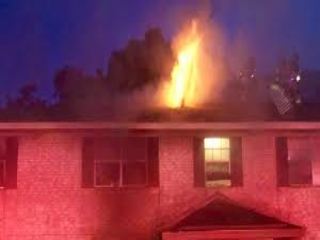fire: (165, 26, 217, 114)
smoke: (38, 34, 166, 121)
